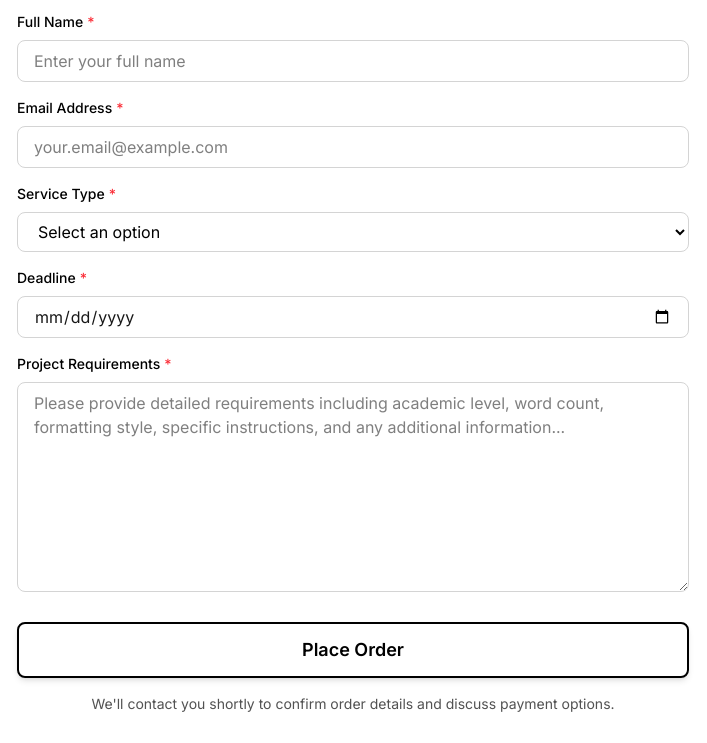
OrderForm Component › validates email format
In the field labelled "Email Address*": {"x": 353, "y": 147} [17,126,689,168], type "invalid-email"
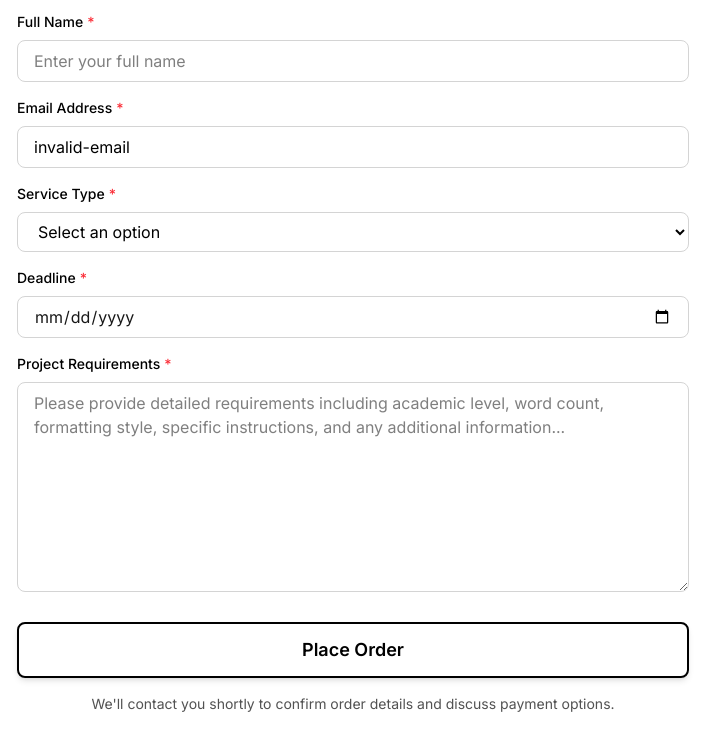
Click the button "Place Order": {"x": 353, "y": 650} [17,622,689,678]
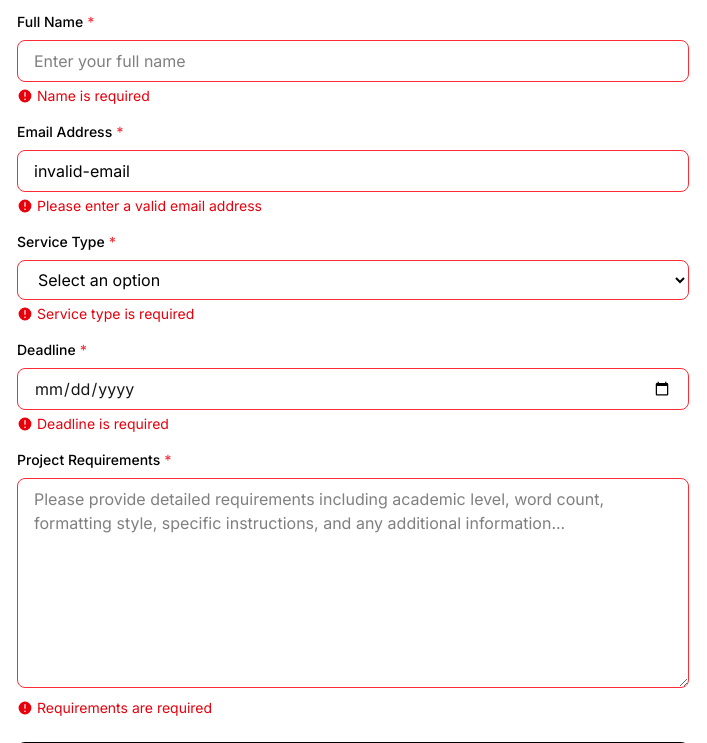
Result: the text "Please enter a valid email address" is shown at [17,197,262,214]
